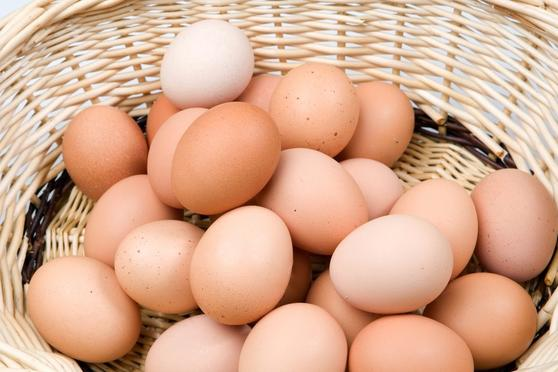egg: (187, 206, 293, 324), (25, 254, 143, 358), (173, 104, 283, 214), (331, 211, 452, 311)
